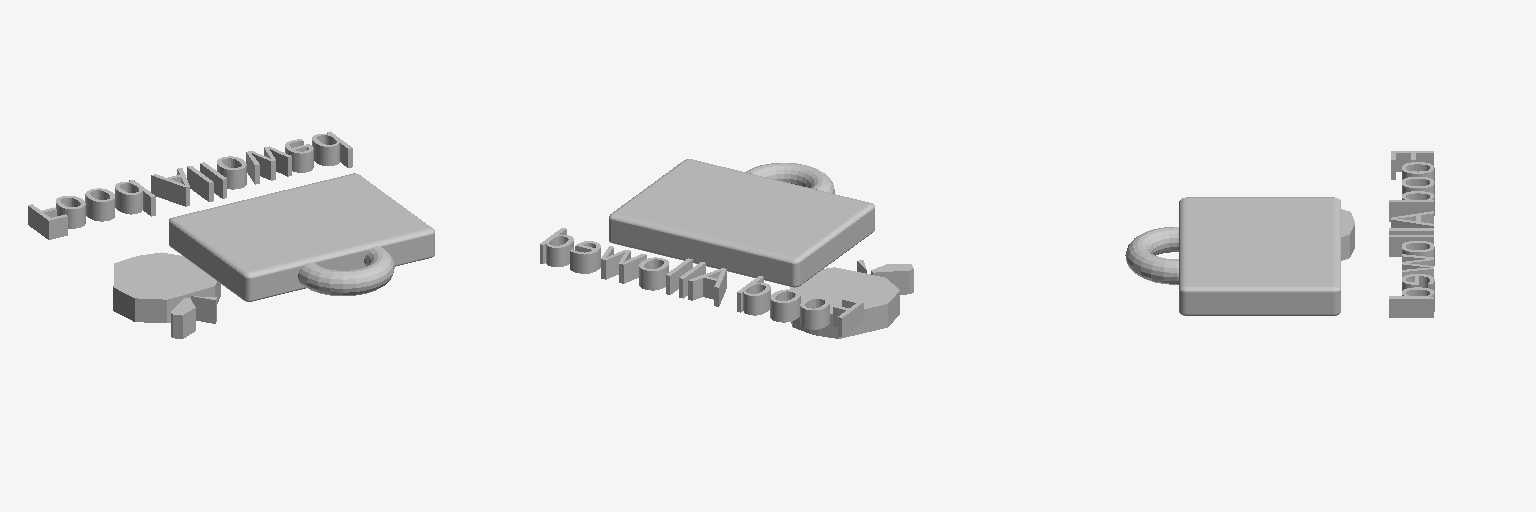
The model's file is food2.obj.
The picture shows the model from 3 angles: view 1: azimuth 30°, elevation 25°; view 2: azimuth 150°, elevation 25°; view 3: azimuth 270°, elevation 25°; orthographic projection.
Visible parts, largest first — view 1: obj_0; view 2: obj_0; view 3: obj_0.
Part boxes in pixels (x1,y1,x2,y2): obj_0: (28, 131, 434, 338); obj_0: (540, 159, 913, 338); obj_0: (1125, 151, 1434, 317).
Bounding box in the file's own units: 163 × 32.26 × 144.